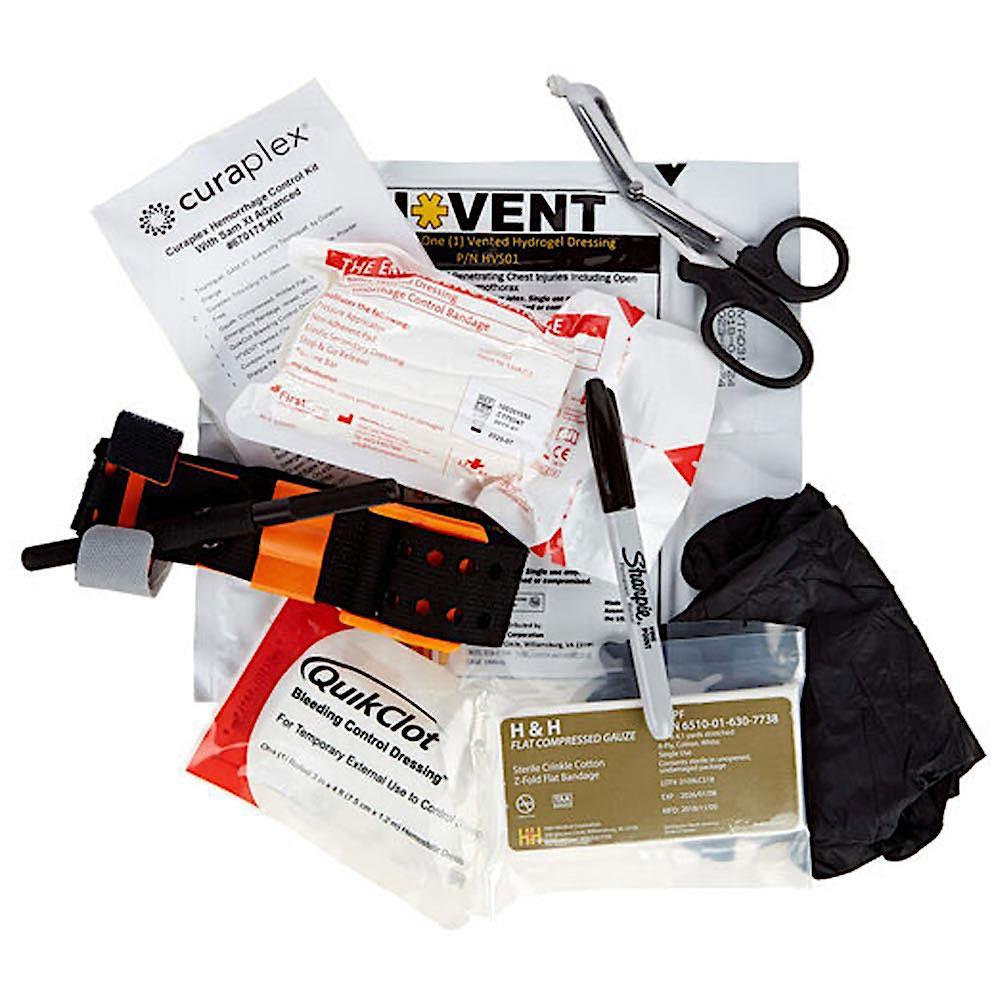scissors: (543, 71, 853, 391)
